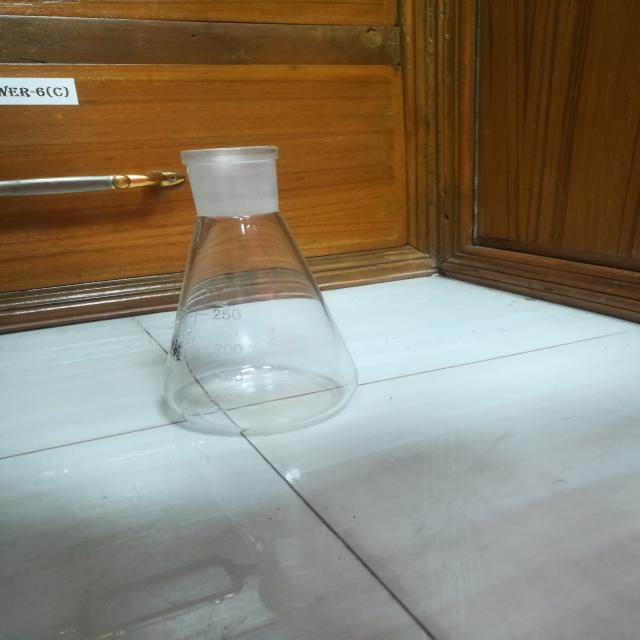Conical_Flask: (127, 105, 401, 455)
